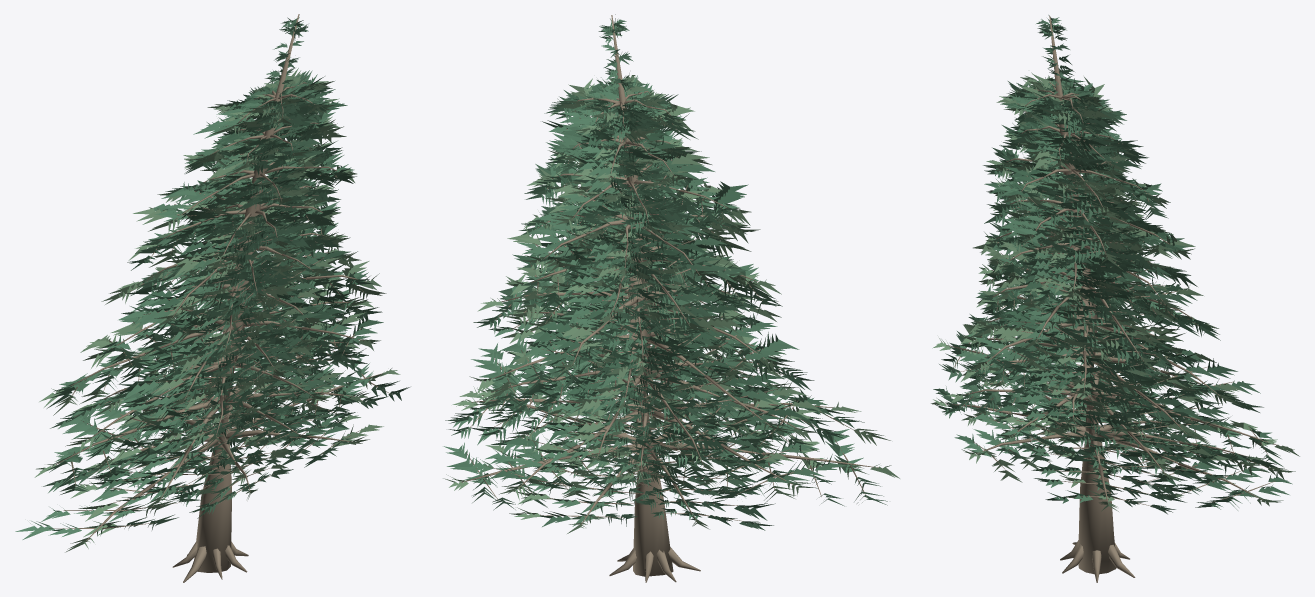
File: cedar_3.glb
The picture shows the model from 3 angles, left to right: view 1: azimuth 30°, elevation 25°; view 2: azimuth 150°, elevation 25°; view 3: azimuth 270°, elevation 25°; orthographic projection. The views are drawn at different scales.
Parts seen in each view (by area): view 1: tree_conifer_ConiferLeaf, tree_conifer_ConiferLeafLight, tree_conifer_ConiferLeafDark, tree_conifer_ConiferBark; view 2: tree_conifer_ConiferLeaf, tree_conifer_ConiferLeafLight, tree_conifer_ConiferLeafDark, tree_conifer_ConiferBark; view 3: tree_conifer_ConiferLeaf, tree_conifer_ConiferLeafLight, tree_conifer_ConiferLeafDark, tree_conifer_ConiferBark.
Boxes of the visible parts, bbox=[...] form: tree_conifer_ConiferLeaf: bbox=[15, 17, 399, 539]; tree_conifer_ConiferLeafLight: bbox=[34, 68, 400, 552]; tree_conifer_ConiferLeafDark: bbox=[47, 75, 409, 518]; tree_conifer_ConiferBark: bbox=[49, 14, 391, 582]; tree_conifer_ConiferLeaf: bbox=[443, 14, 887, 530]; tree_conifer_ConiferLeafLight: bbox=[443, 73, 899, 533]; tree_conifer_ConiferLeafDark: bbox=[449, 75, 848, 526]; tree_conifer_ConiferBark: bbox=[461, 15, 878, 582]; tree_conifer_ConiferLeaf: bbox=[935, 15, 1292, 514]; tree_conifer_ConiferLeafLight: bbox=[931, 72, 1299, 511]; tree_conifer_ConiferLeafDark: bbox=[933, 81, 1282, 503]; tree_conifer_ConiferBark: bbox=[943, 16, 1280, 582].
Size of the model in its own units: 11.68 by 14.79 by 8.52.
